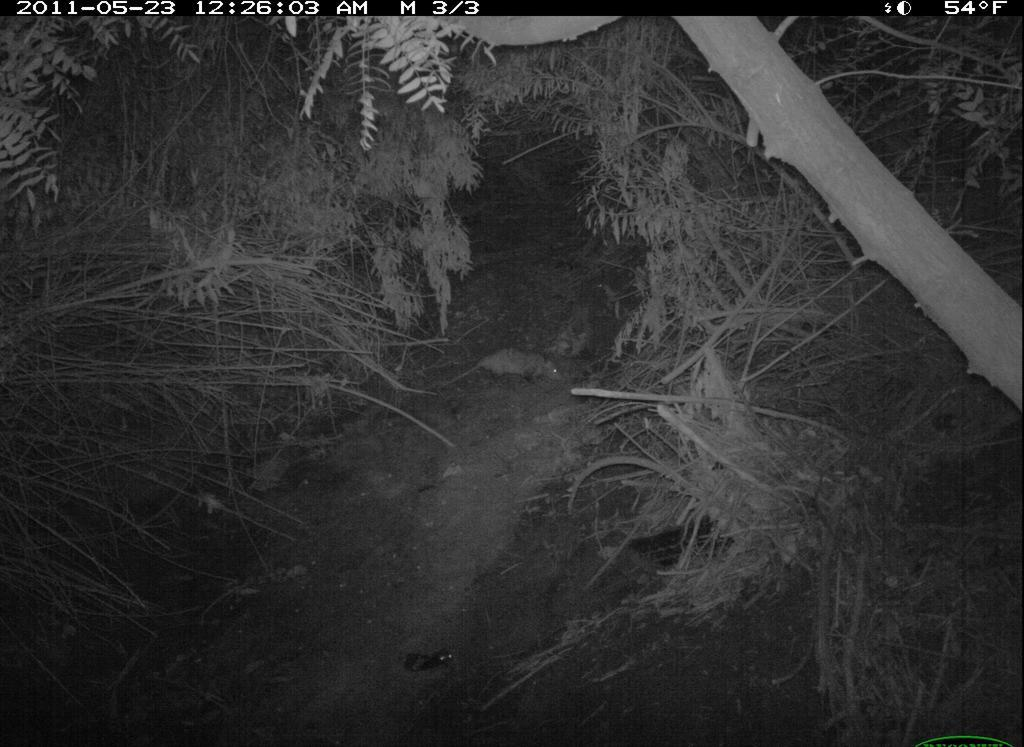opossum: (451, 329, 569, 399)
